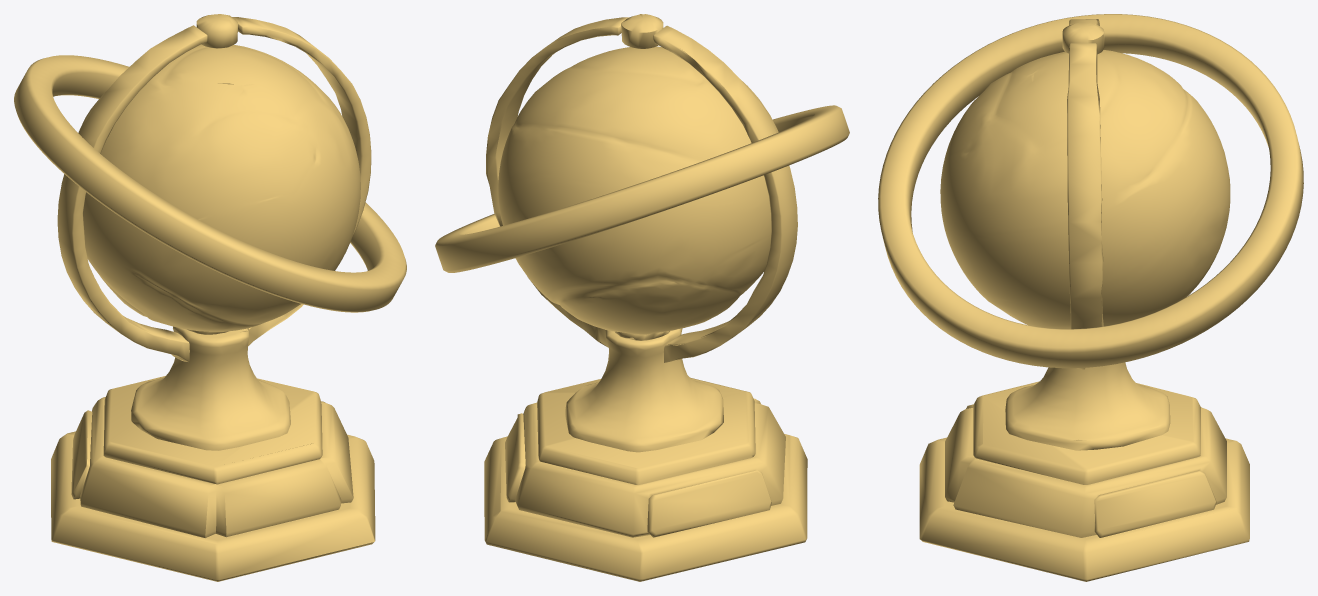
File: golden_gezegen.glb
3 views of the same model, side by side, from view 1: azimuth 30°, elevation 25°; view 2: azimuth 150°, elevation 25°; view 3: azimuth 270°, elevation 25° (orthographic).
Parts seen in each view (by area): view 1: golden_gezegen_AO_candidate; view 2: golden_gezegen_AO_candidate; view 3: golden_gezegen_AO_candidate.
Part boxes in pixels (x1,y1,x2,y2): golden_gezegen_AO_candidate: (14, 14, 406, 581); golden_gezegen_AO_candidate: (435, 14, 849, 581); golden_gezegen_AO_candidate: (878, 14, 1303, 581).
Size of the model in its own units: 0.7399 by 1 by 0.8049.
